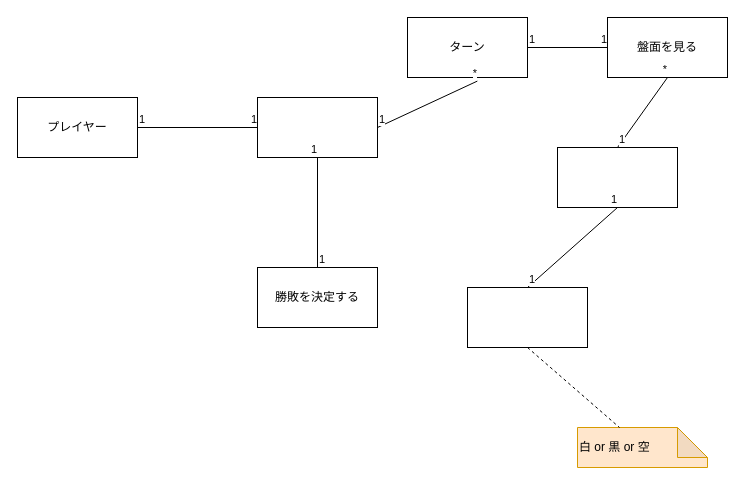
This 745x485 diagram has some shape labels left out. The shapes that lost their labels are listed below. From the top down, each one's centre as x and y in pixels, then its label:
point 317,127: 対戦開始
point 617,177: マス目
point 527,317: 石を打つ
